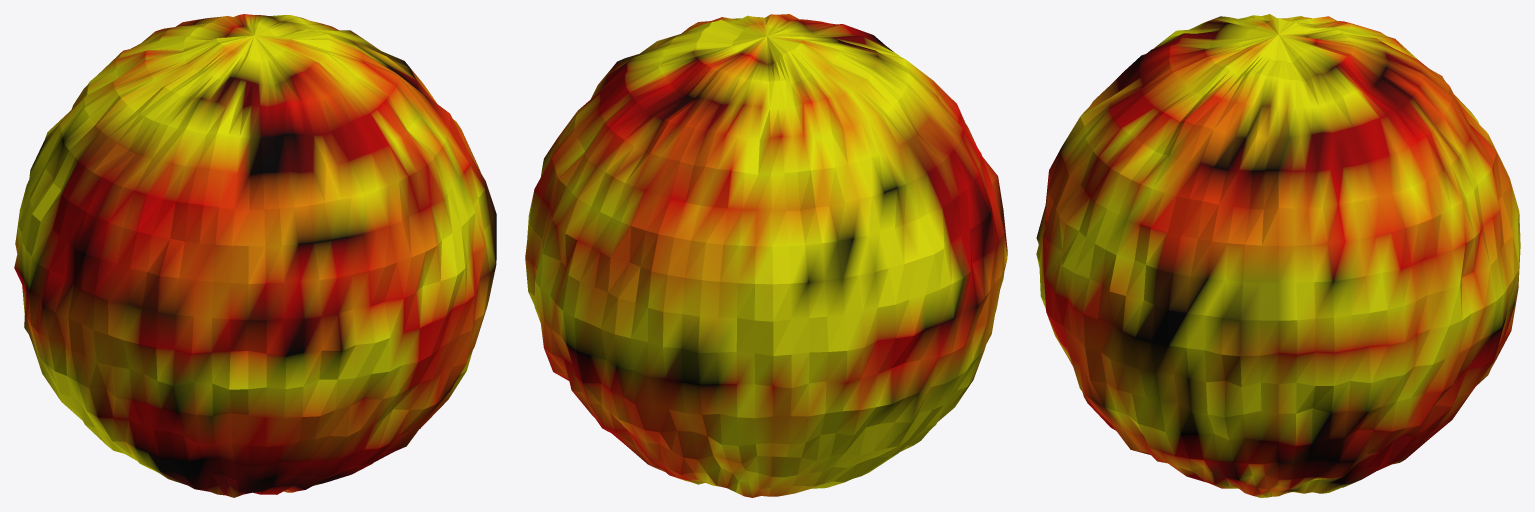
Rendered from StaticMeshFireball.fbx.
The picture shows the model from 3 angles, left to right: view 1: azimuth 30°, elevation 25°; view 2: azimuth 150°, elevation 25°; view 3: azimuth 270°, elevation 25°; orthographic projection.
Visible parts, largest first — view 1: attribtransfer2; view 2: attribtransfer2; view 3: attribtransfer2.
Part boxes in pixels (left/top/right/bottom): attribtransfer2: left=14, top=14, right=496, bottom=497; attribtransfer2: left=525, top=14, right=1007, bottom=497; attribtransfer2: left=1036, top=14, right=1520, bottom=497.
Bounding box in the file's own units: 10.32 × 10.28 × 10.28.
